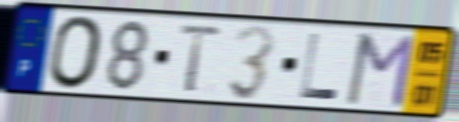3: (226, 22, 282, 103)
8: (103, 17, 153, 94)
L: (297, 31, 341, 103)
M: (342, 30, 418, 111)
O: (48, 13, 106, 92)
T: (175, 22, 226, 96)
